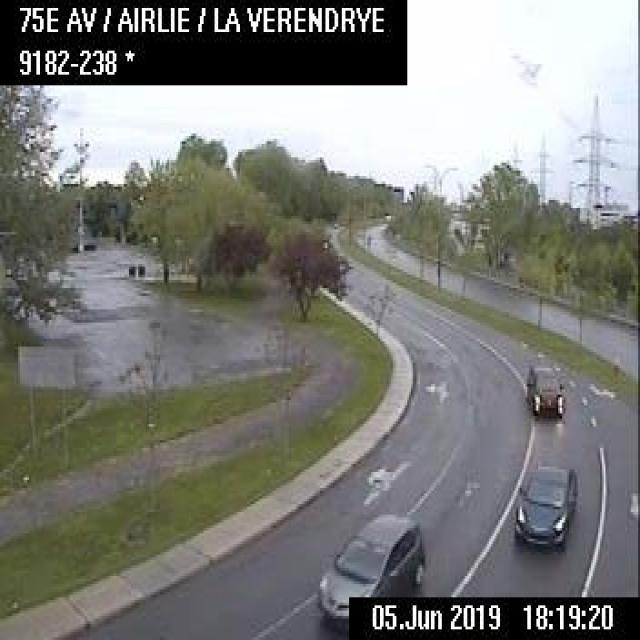vehicle: (313, 510, 425, 630), (511, 461, 578, 552), (524, 357, 566, 419)
